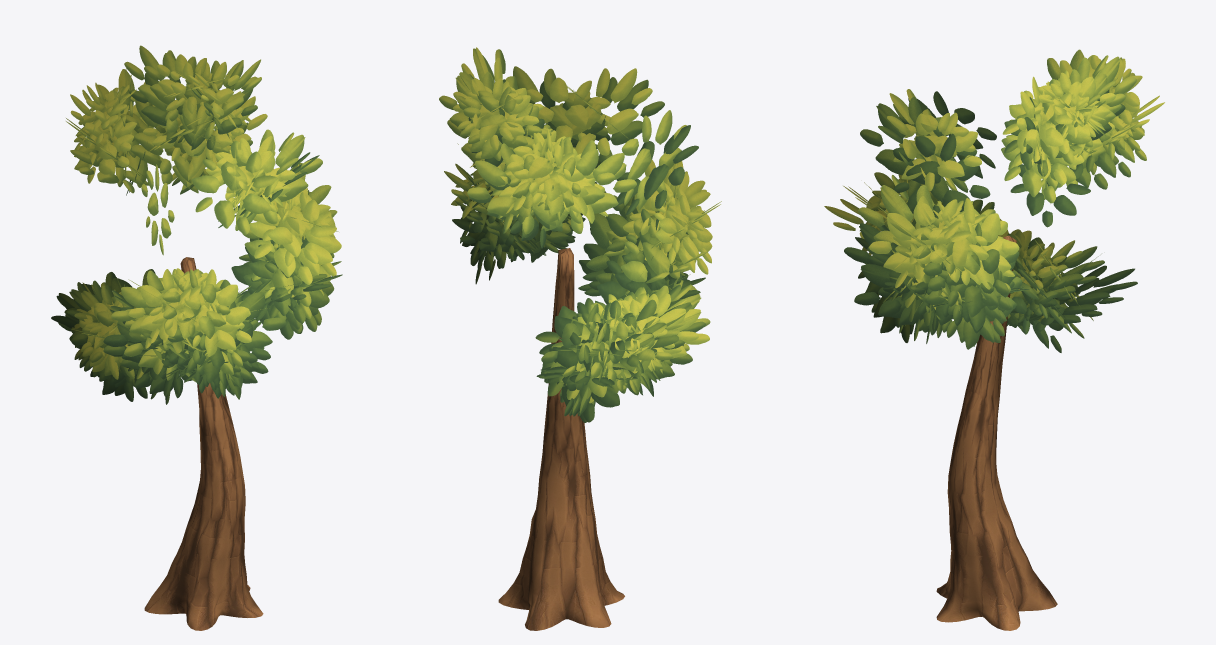
The model's file is tree_sapling.glb.
The picture shows the model from 3 angles, left to right: view 1: azimuth 30°, elevation 25°; view 2: azimuth 150°, elevation 25°; view 3: azimuth 270°, elevation 25°; orthographic projection. The views are drawn at different scales.
Parts seen in each view (by area): view 1: Canopy, tree_sapling; view 2: Canopy, tree_sapling; view 3: Canopy, tree_sapling.
Boxes of the visible parts, x1=… form: Canopy: x1=51, y1=45, x2=342, y2=404; tree_sapling: x1=144, y1=257, x2=263, y2=630; Canopy: x1=439, y1=47, x2=721, y2=422; tree_sapling: x1=498, y1=248, x2=624, y2=630; Canopy: x1=824, y1=49, x2=1164, y2=352; tree_sapling: x1=936, y1=235, x2=1057, y2=630.
Bounding box in the file's own units: 0.7515 × 1.34 × 0.859.
2 materials, 2 textured.
